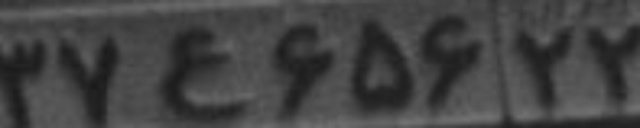2: (516, 24, 571, 105), (585, 23, 638, 101)
3: (1, 39, 45, 126)
5: (351, 20, 417, 107)
6: (263, 24, 334, 115), (422, 15, 485, 107)
7: (55, 34, 126, 126)
ain: (153, 26, 245, 121)
